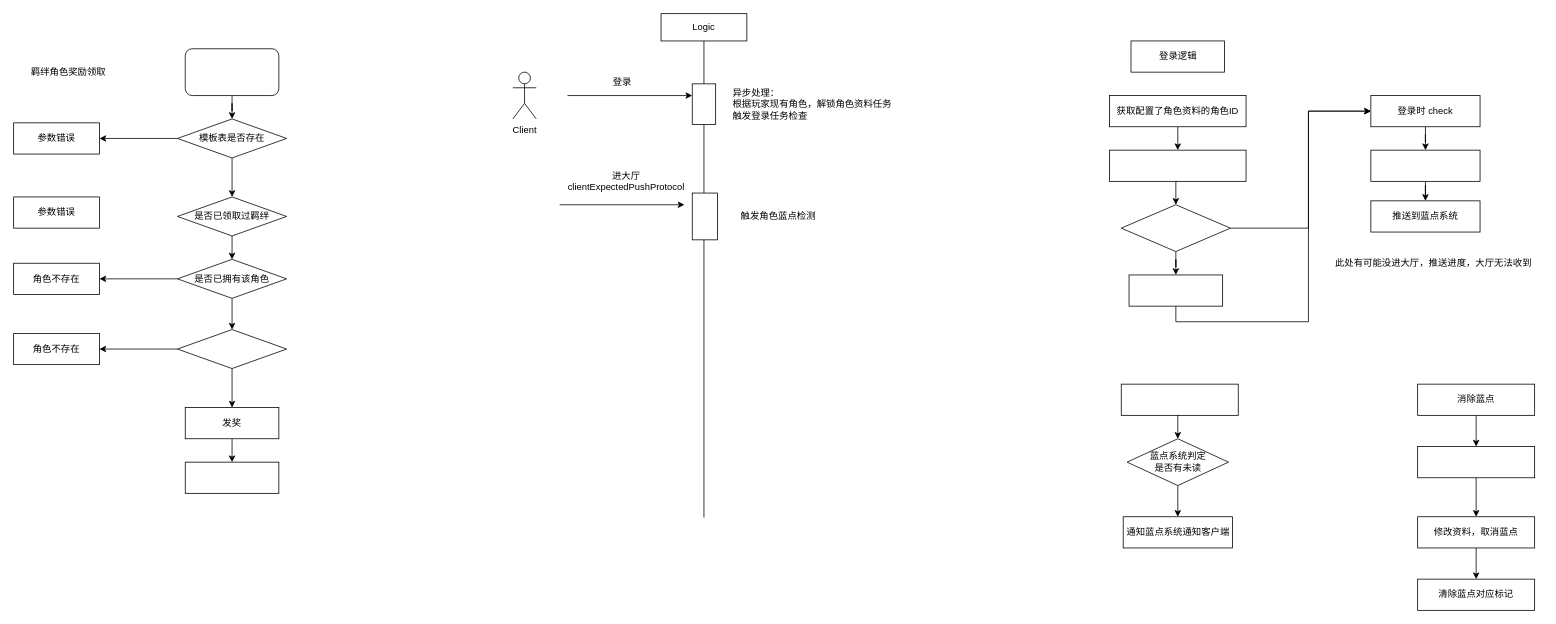
Image size: 1556x624. Some labels were removed from this diagram. The centre of each missing label's shape, as x and y in pixels:
传入羁绊奖励Id: the point at 231,72
创建资料进度Entity: the point at 1175,290
埋点: the point at 231,477
找到对应蓝点服务: the point at 1476,462
是否存在所有羁绊角色: the point at 232,349
是否有角色资料 进度entity: the point at 1175,228
有完成的资料，标记蓝点: the point at 1425,165
筛选玩家拥有的角色的角色资料: the point at 1177,165
进大厅时: the point at 1179,399
